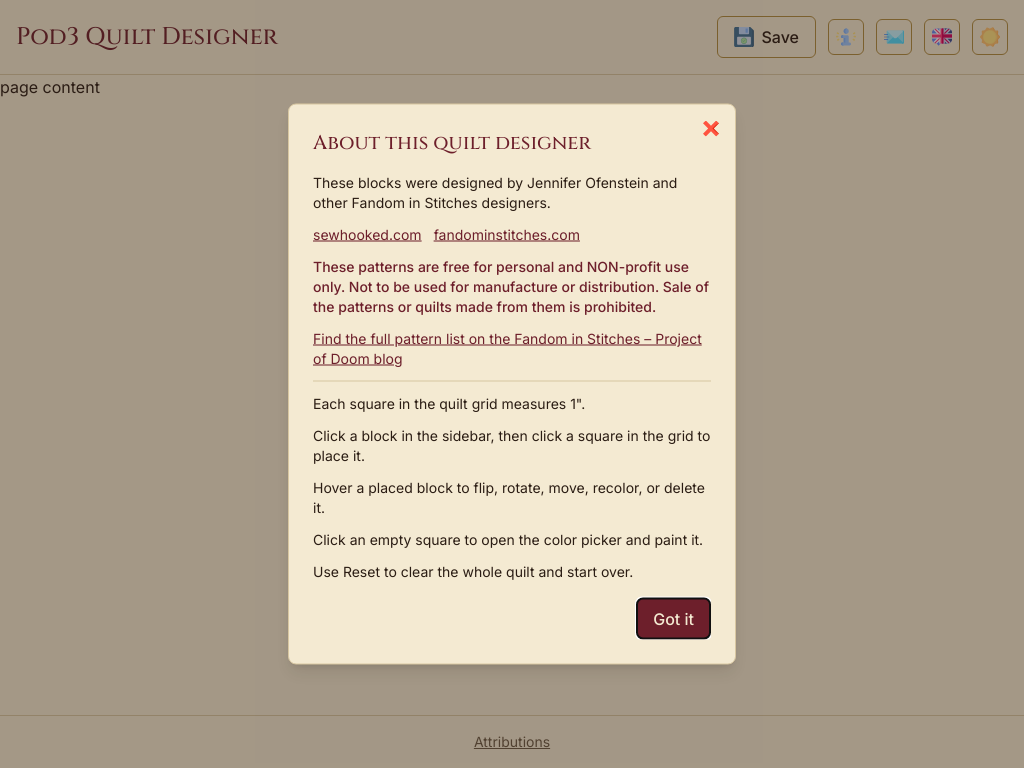
Layout › shows an error message if saving fails
This screenshot has width=1024, height=768.
Click the button "Got it" at (674, 618), box [636, 598, 711, 640]
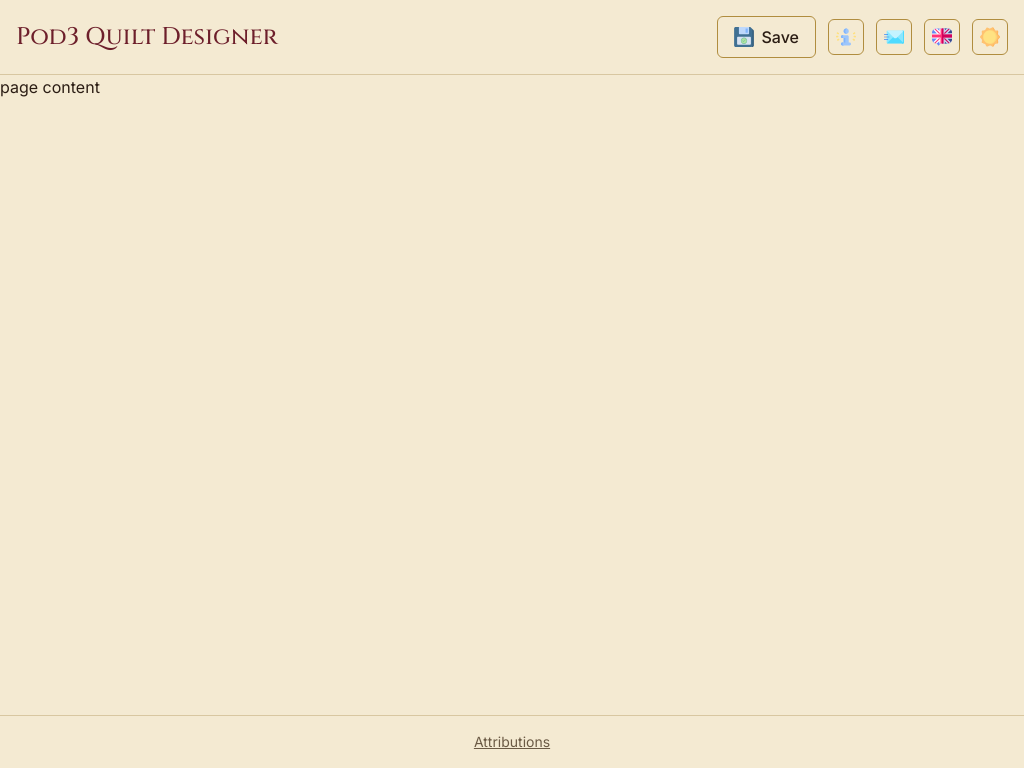
Click the button "Save" at (766, 37), box [716, 16, 816, 58]
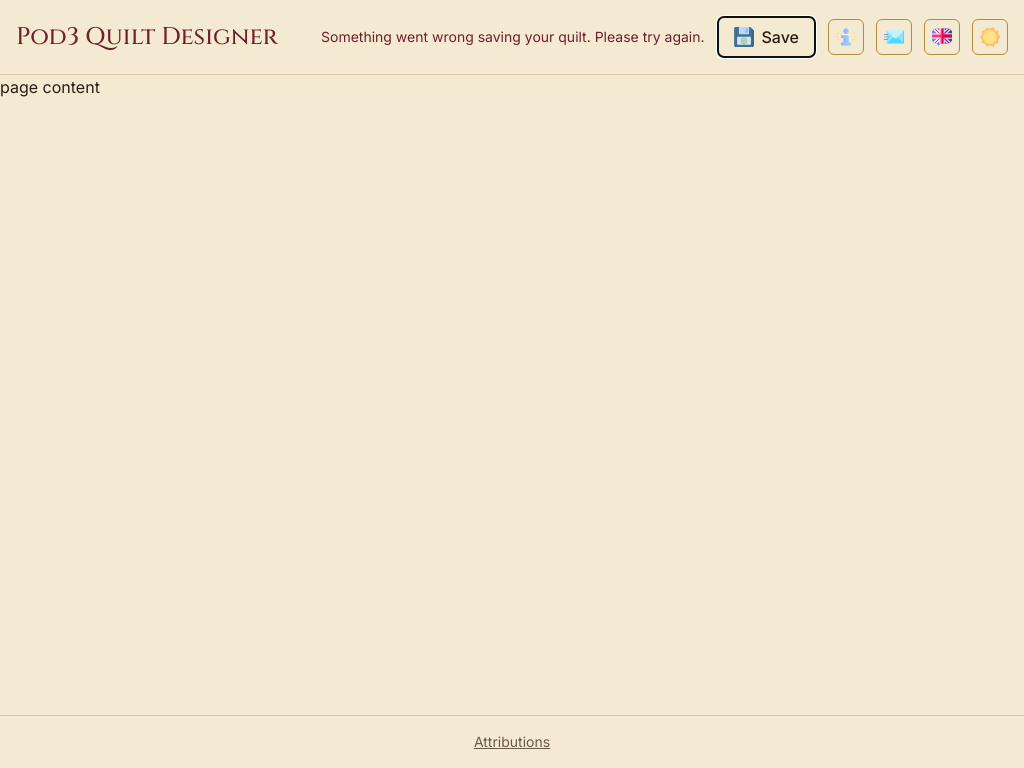
Result: the text "Something went wrong saving your quilt. Please try again." is shown at [321, 27, 704, 47]
